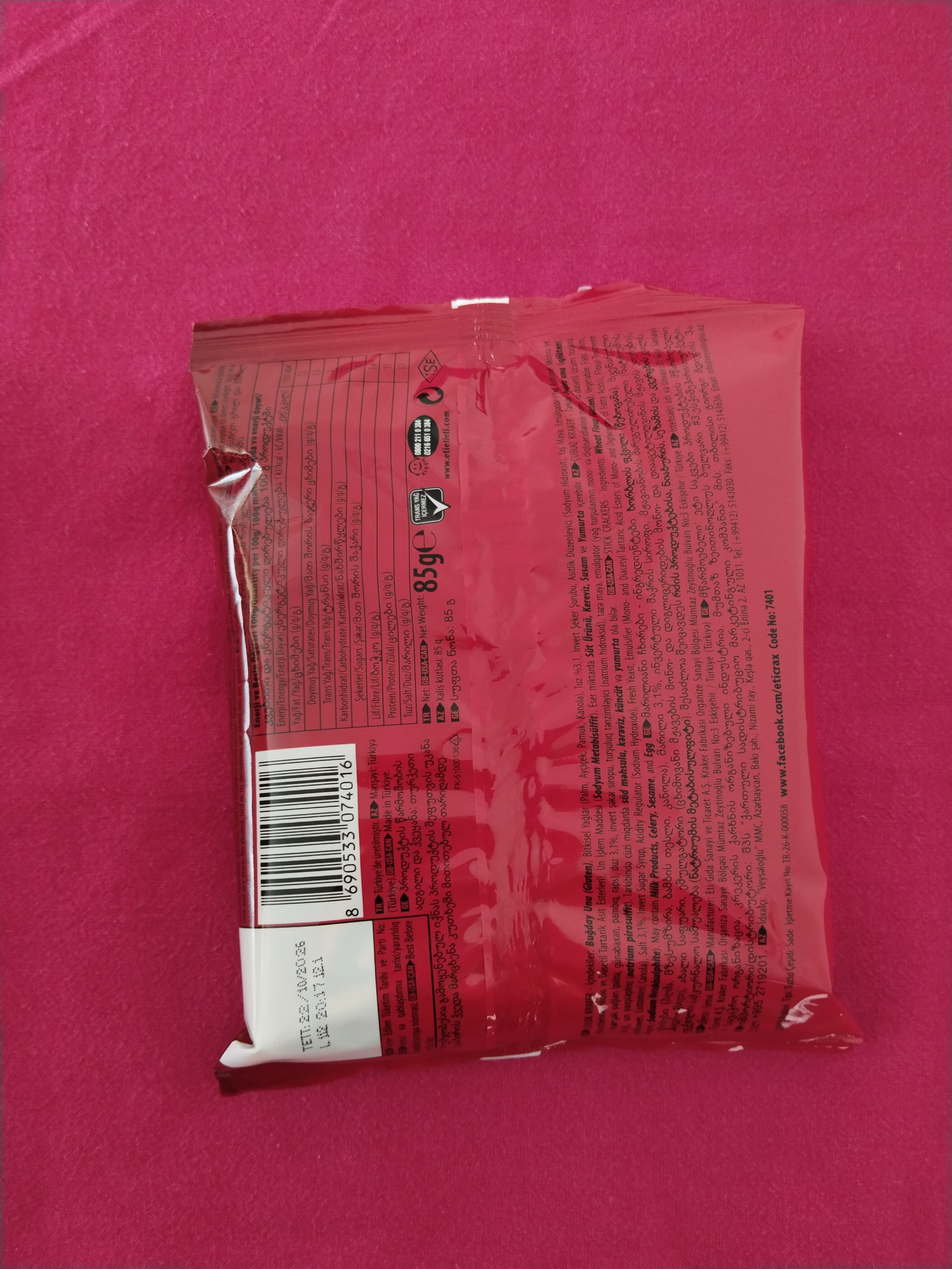eti_crax_cubuk_kraker: (195, 289, 833, 1069)
